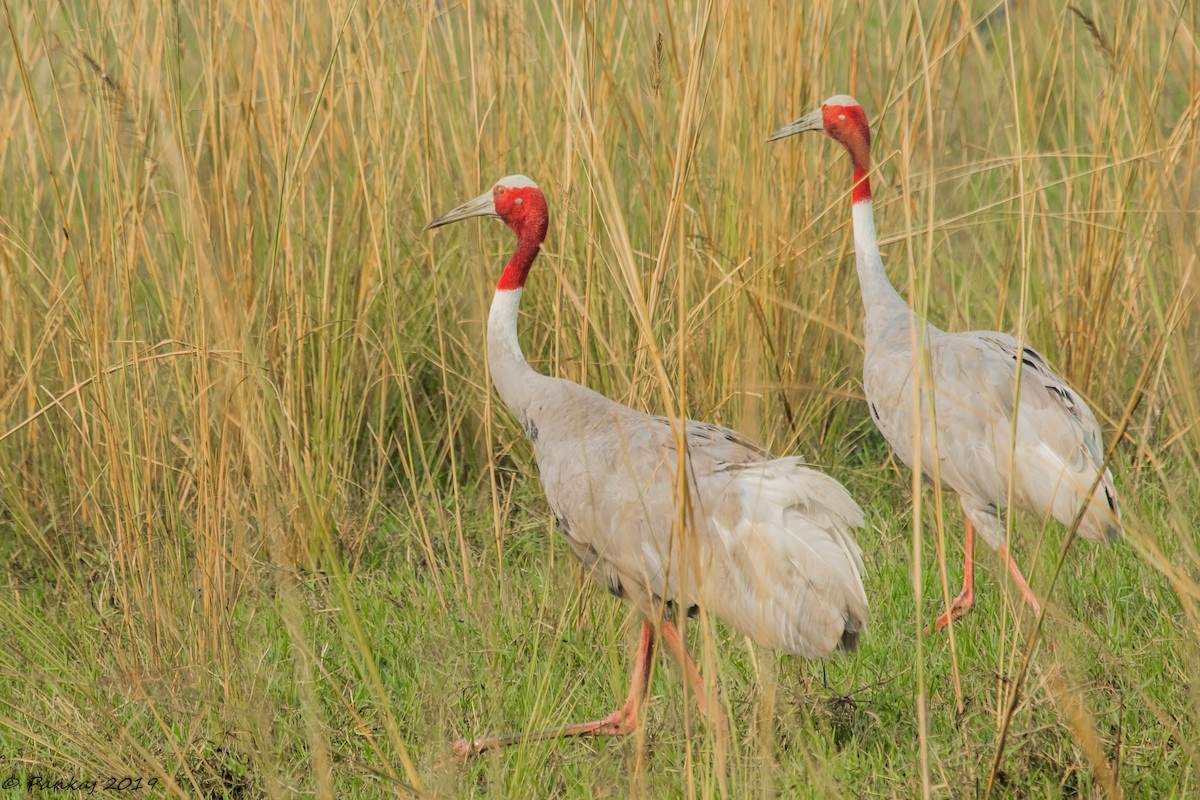crane: (410, 161, 870, 766), (759, 87, 1144, 648)
